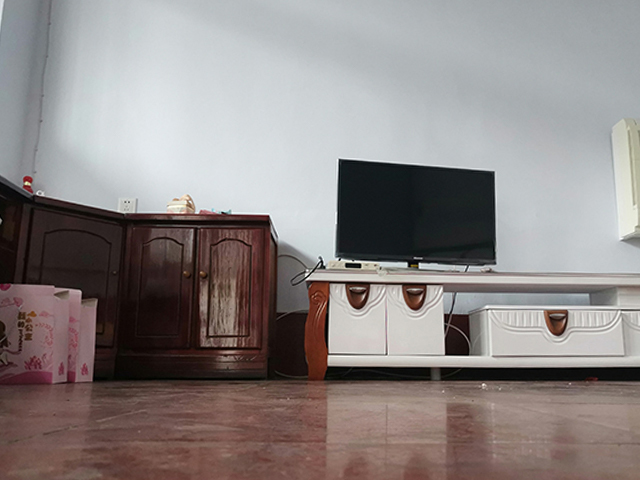cabinet: (1, 174, 280, 385), (301, 267, 640, 385)
